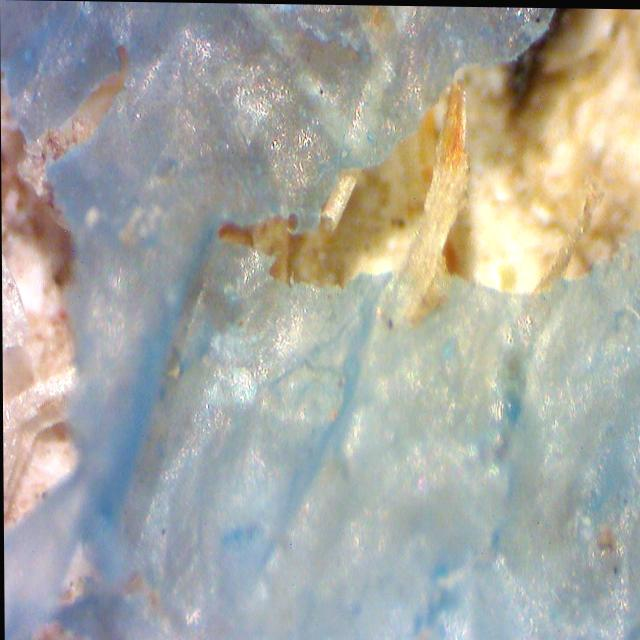microplastic: (0, 1, 640, 640)
